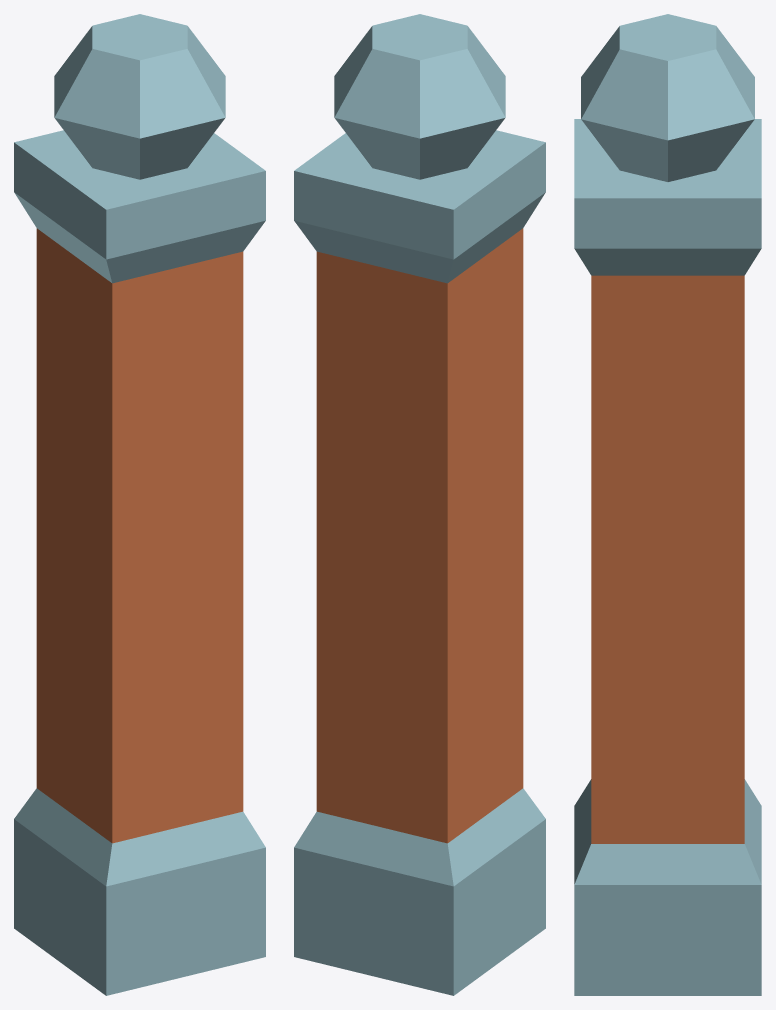
The model's file is pillarLarge.fbx.
The picture shows the model from 3 angles, left to right: view 1: azimuth 30°, elevation 25°; view 2: azimuth 150°, elevation 25°; view 3: azimuth 270°, elevation 25°; orthographic projection.
Visible parts, largest first — view 1: pillarLarge; view 2: pillarLarge; view 3: pillarLarge.
Boxes of the visible parts, x1,y1,x2,y2 form: pillarLarge: [14, 14, 265, 995]; pillarLarge: [294, 14, 545, 995]; pillarLarge: [574, 14, 761, 995].
Bounding box in the file's own units: 1.8 × 9.1 × 1.68.
